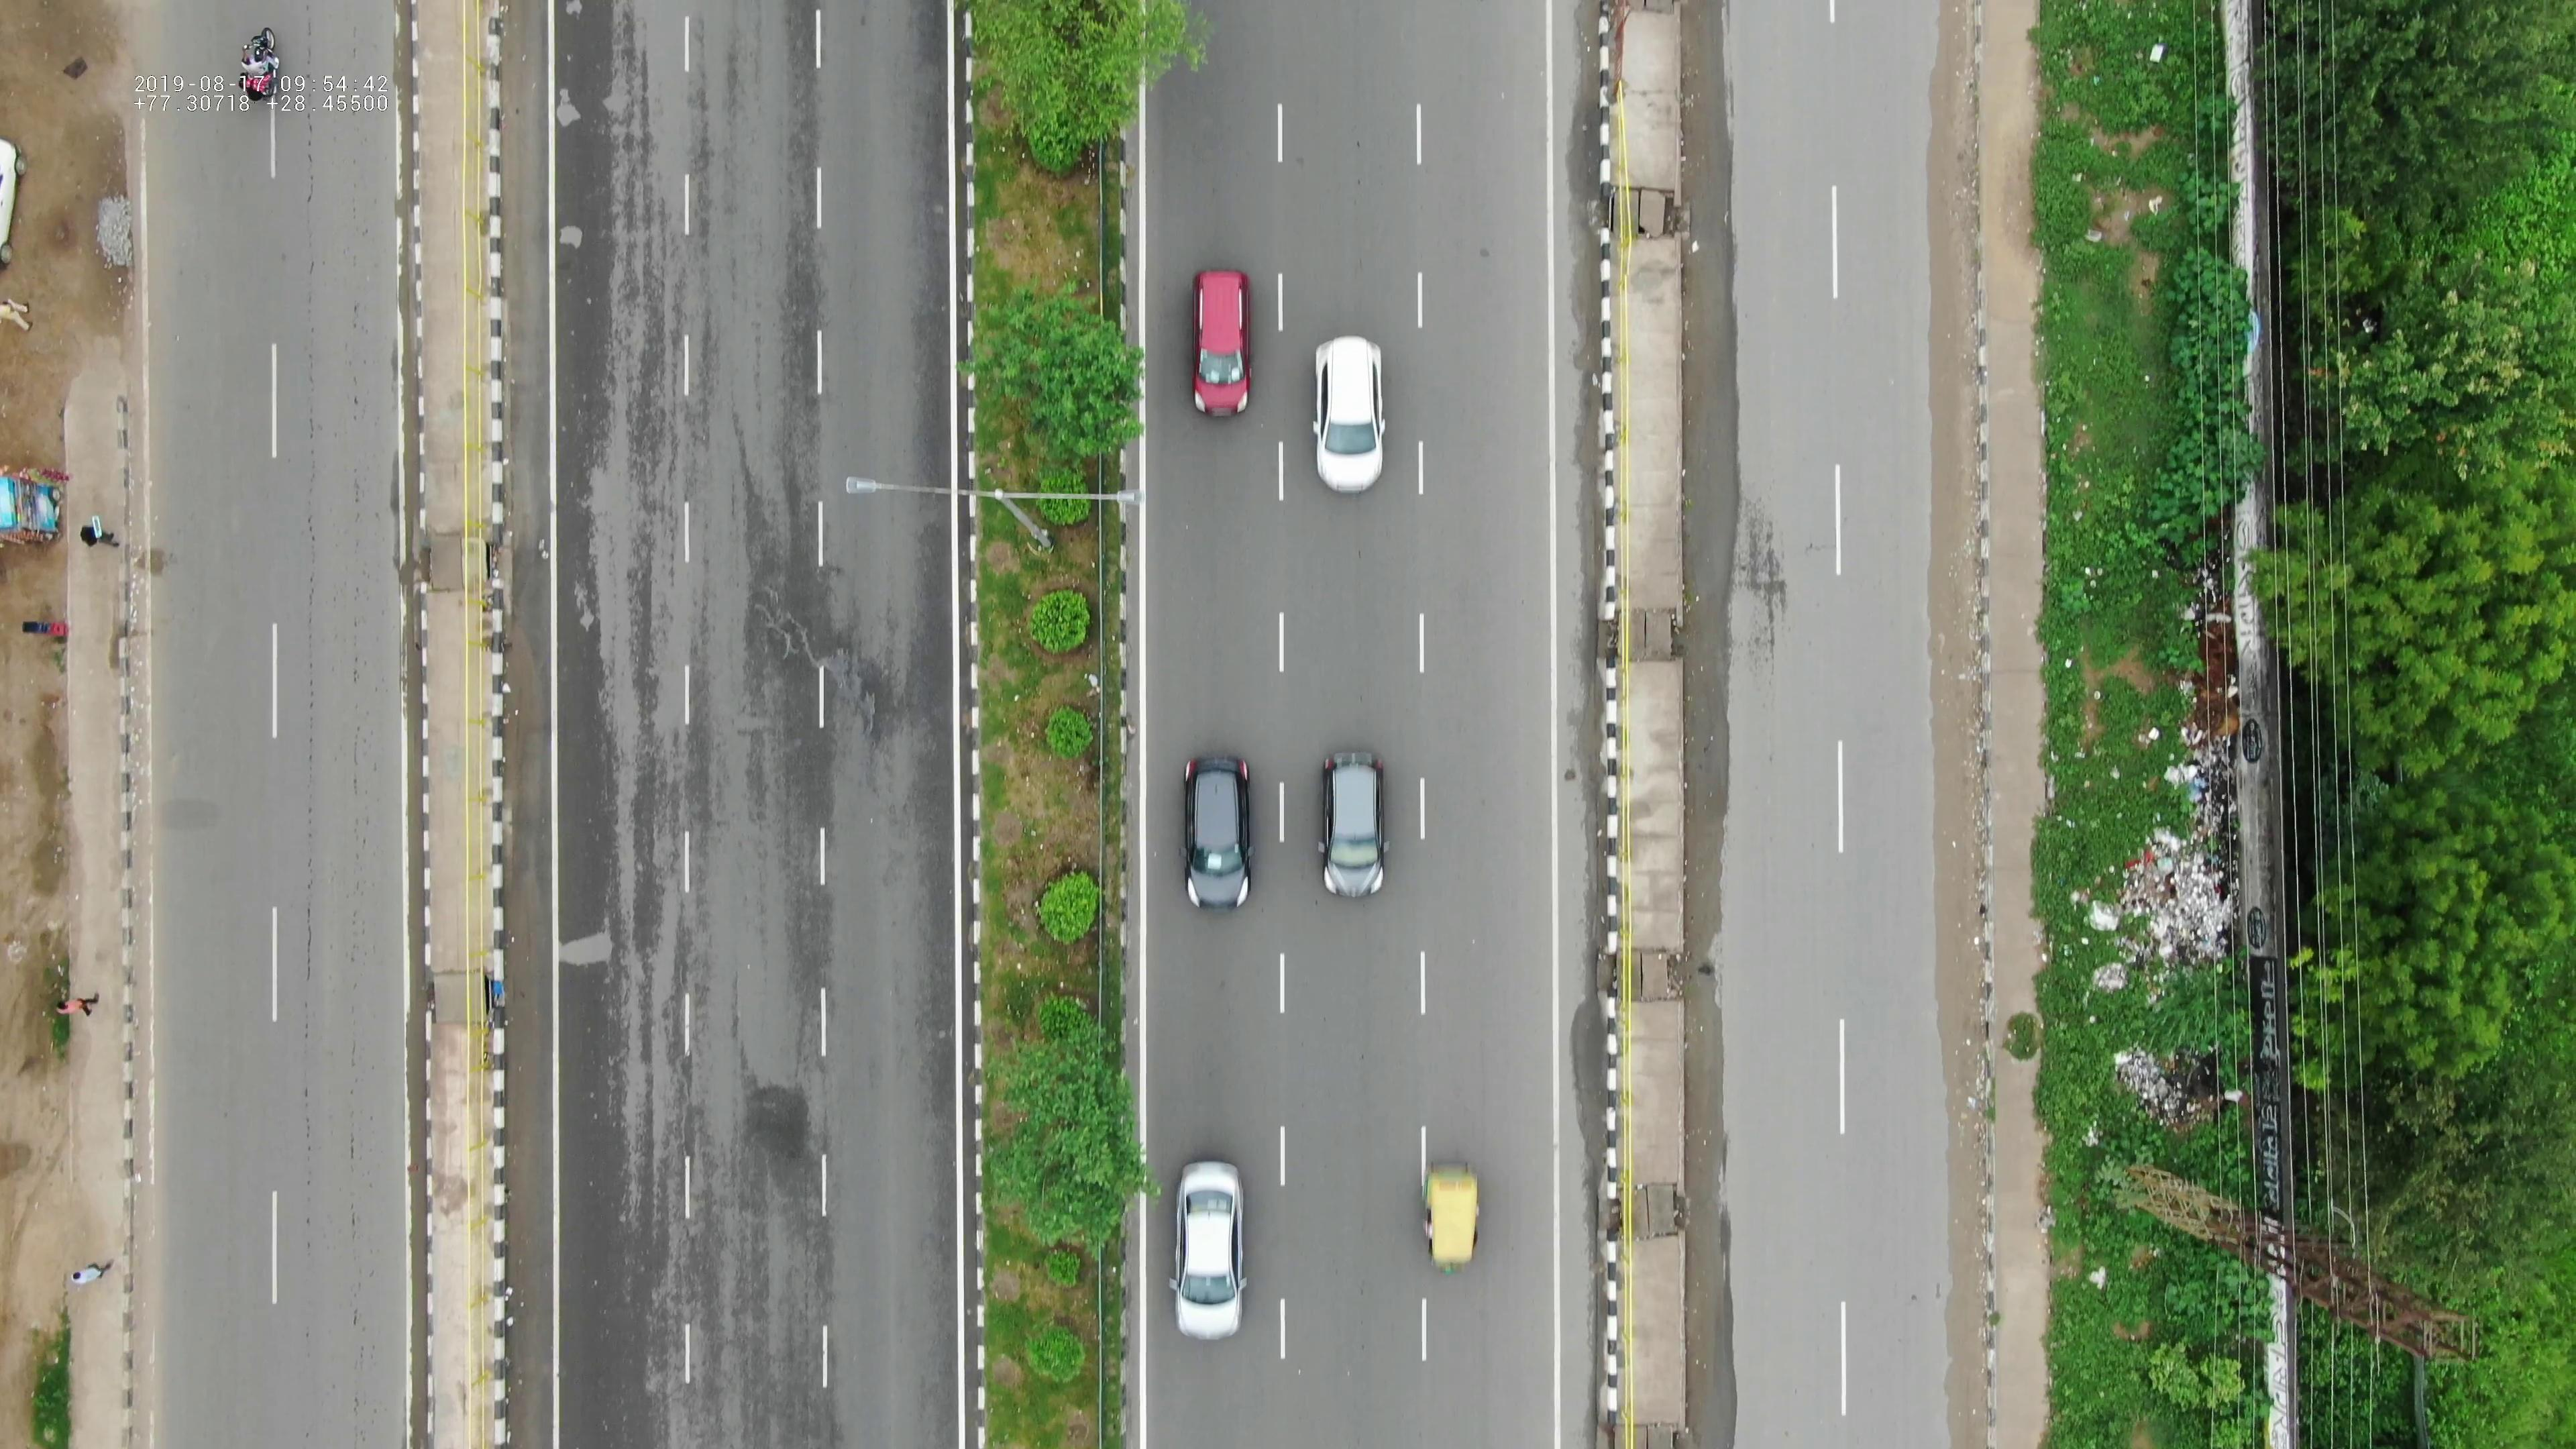Muddy_road: (1925, 639, 1992, 1437), (1918, 60, 1996, 623), (67, 126, 156, 318)
Road_side_garbage: (2056, 803, 2242, 1102)
